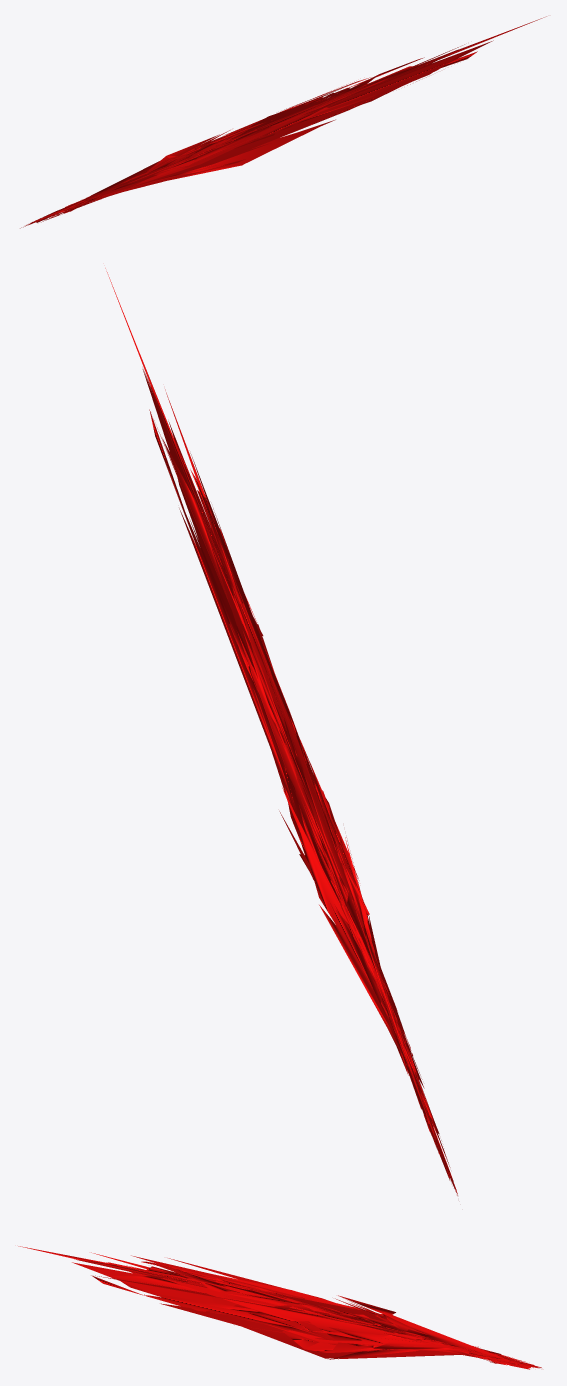
3 views of the same model, one above another, from view 1: azimuth 30°, elevation 25°; view 2: azimuth 150°, elevation 25°; view 3: azimuth 270°, elevation 25° (orthographic). The views are drawn at different scales.
Visible parts, largest first — view 1: Renderer Node; view 2: Renderer Node; view 3: Renderer Node.
Boxes of the visible parts, x1=… form: Renderer Node: x1=20, y1=16, x2=546, y2=228; Renderer Node: x1=105, y1=268, x2=457, y2=1195; Renderer Node: x1=18, y1=1246, x2=541, y2=1369.
Bounding box in the file's own units: 4.75 × 3.27 × 4.08.
1 material, 1 textured.
